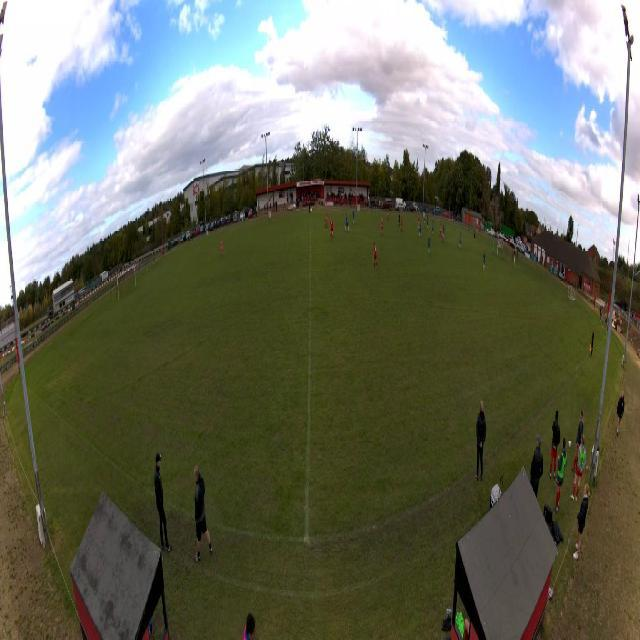ball: (429, 230, 430, 234)
player: (373, 242, 379, 270), (330, 216, 334, 241), (345, 213, 349, 234), (380, 218, 384, 239), (324, 209, 328, 229), (482, 251, 486, 270), (458, 231, 462, 249), (220, 236, 223, 257), (427, 235, 430, 256), (419, 221, 422, 239), (400, 217, 403, 234), (398, 212, 401, 229), (439, 222, 442, 238), (387, 208, 390, 222), (423, 215, 426, 229), (416, 227, 421, 234), (432, 220, 434, 237), (442, 228, 444, 244), (443, 224, 445, 240), (492, 240, 494, 255), (427, 216, 429, 230), (418, 217, 420, 227), (353, 210, 354, 224)
